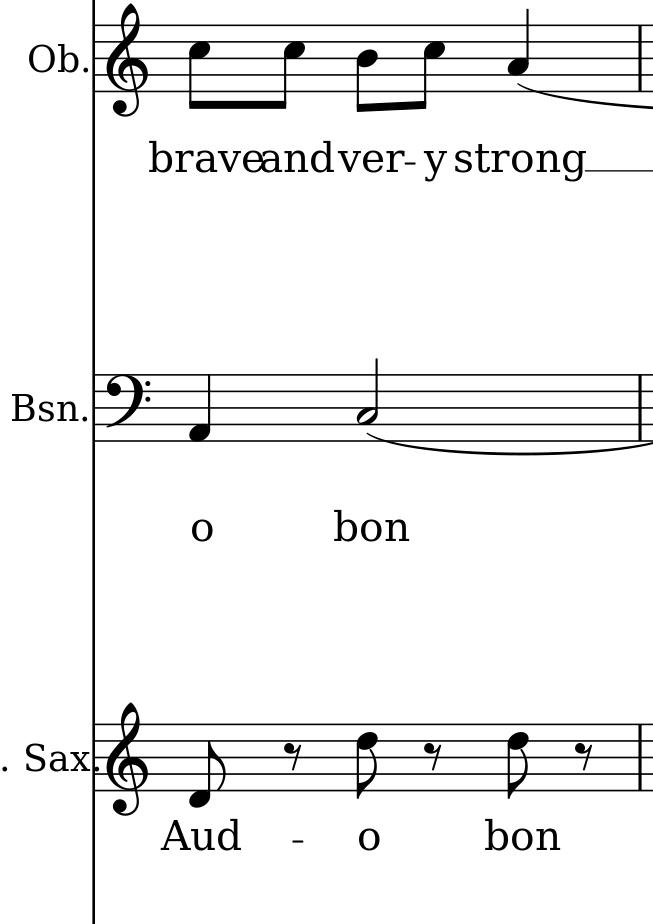2_3: (355, 355, 382, 442)
4_1: (186, 372, 212, 444)
4_3: (506, 8, 532, 93)
8_-1: (187, 719, 226, 809)
8_4: (355, 21, 380, 116)
8_5: (415, 21, 447, 114), (273, 23, 306, 113), (188, 22, 213, 112)
8_6: (504, 721, 531, 799), (354, 722, 381, 799)
Bsn: (8, 391, 80, 428)
Fclef: (105, 372, 153, 444)
Gclef: (105, 3, 151, 125), (106, 702, 150, 815)
Ob: (29, 42, 80, 77)
Rests8: (569, 739, 598, 772), (420, 741, 445, 774), (281, 740, 303, 771)
Sax: (20, 737, 88, 777)
Single_barline: (86, 374, 102, 444), (632, 374, 648, 440), (632, 25, 648, 91), (88, 725, 103, 793), (633, 724, 647, 791), (88, 26, 102, 92)
